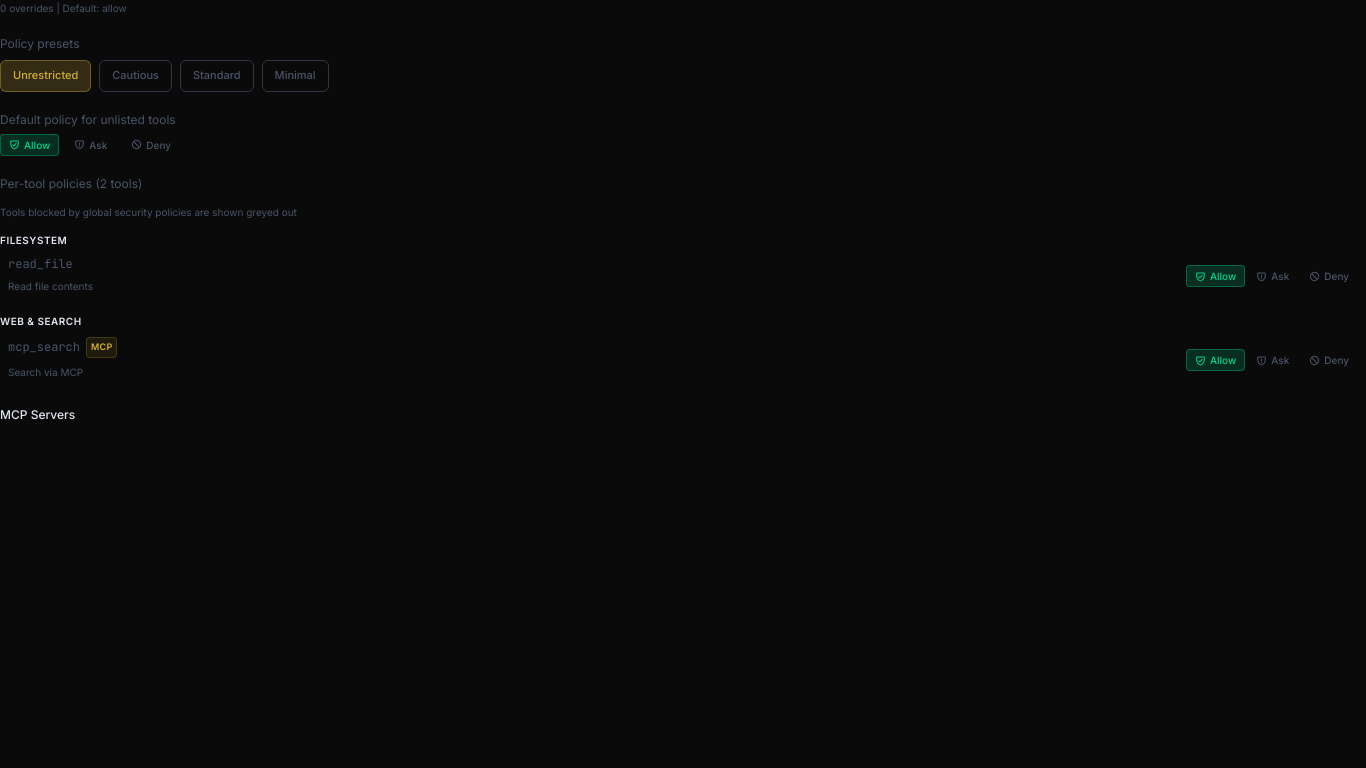
Scenario: ToolsAndPermissions — preset confirmation dialog (FR-043, FR-044) › opens confirmation dialog when preset button is clicked
The width and height of the screenshot is (1366, 768).
Click the button "Cautious".
click(136, 76)  # box [99, 60, 172, 92]
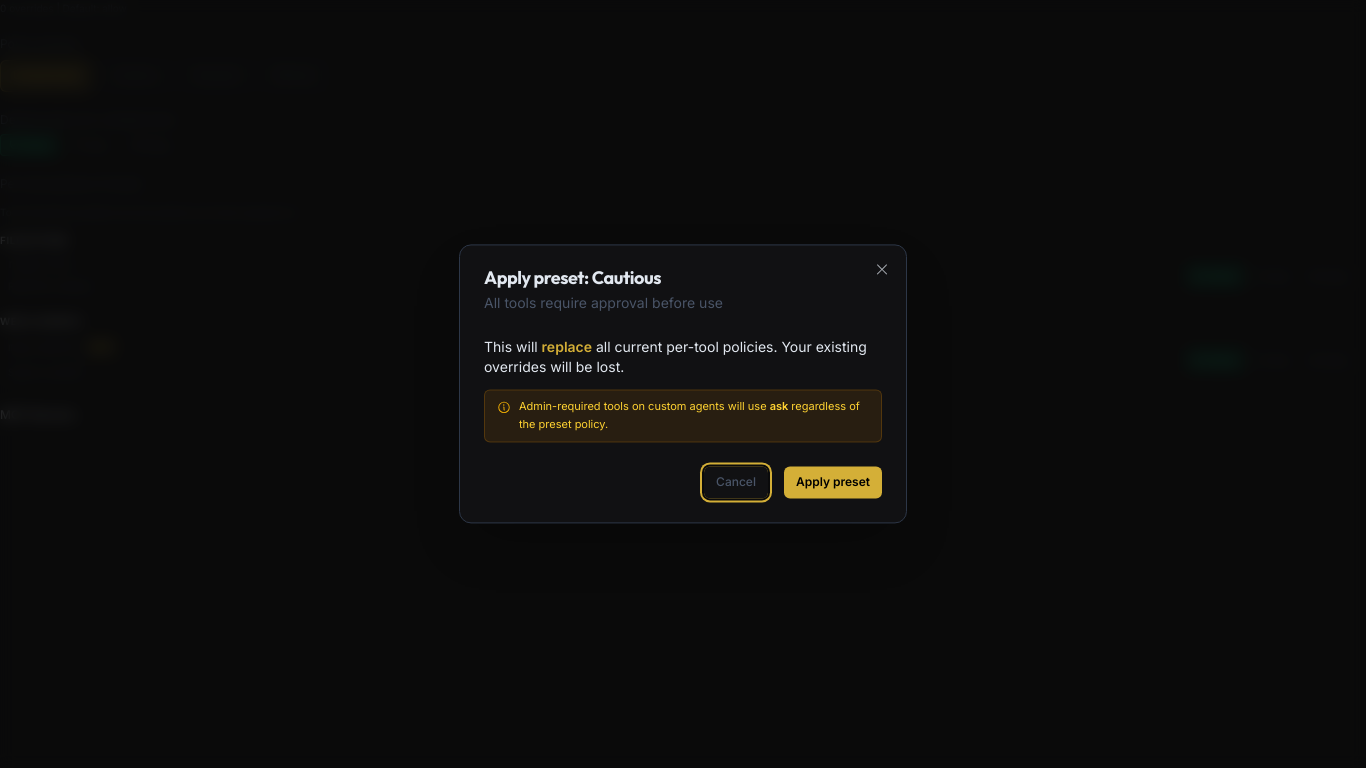
Result: the heading "Apply preset: Cautious" is shown at [484, 266, 661, 289]
Result: the text "replace" is shown at [542, 338, 592, 355]
